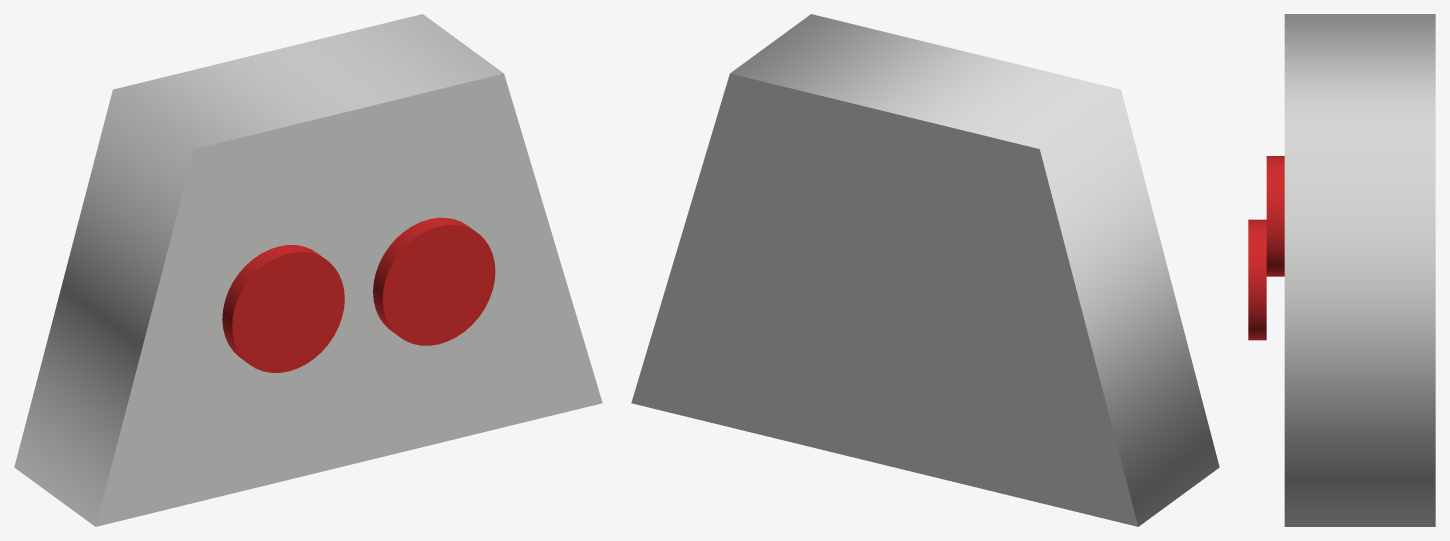
3 renders of one model, left to right at view 1: azimuth 30°, elevation 25°; view 2: azimuth 150°, elevation 25°; view 3: azimuth 270°, elevation 25°, orthographic. The views are drawn at different scales.
Parts seen in each view (by area): view 1: J15b_p00, J15b_d140, J15b_d125; view 2: J15b_p00; view 3: J15b_p00, J15b_d140, J15b_d125.
Boxes of the visible parts, box(x1,y1,x2,y2) form: J15b_p00: box(14, 14, 602, 526); J15b_d140: box(373, 217, 495, 345); J15b_d125: box(222, 245, 344, 372); J15b_p00: box(631, 14, 1219, 526); J15b_p00: box(1284, 14, 1435, 526); J15b_d140: box(1248, 219, 1266, 340); J15b_d125: box(1266, 156, 1284, 276).
Bounding box in the file's own units: 0.18 × 0.12 × 0.062.
